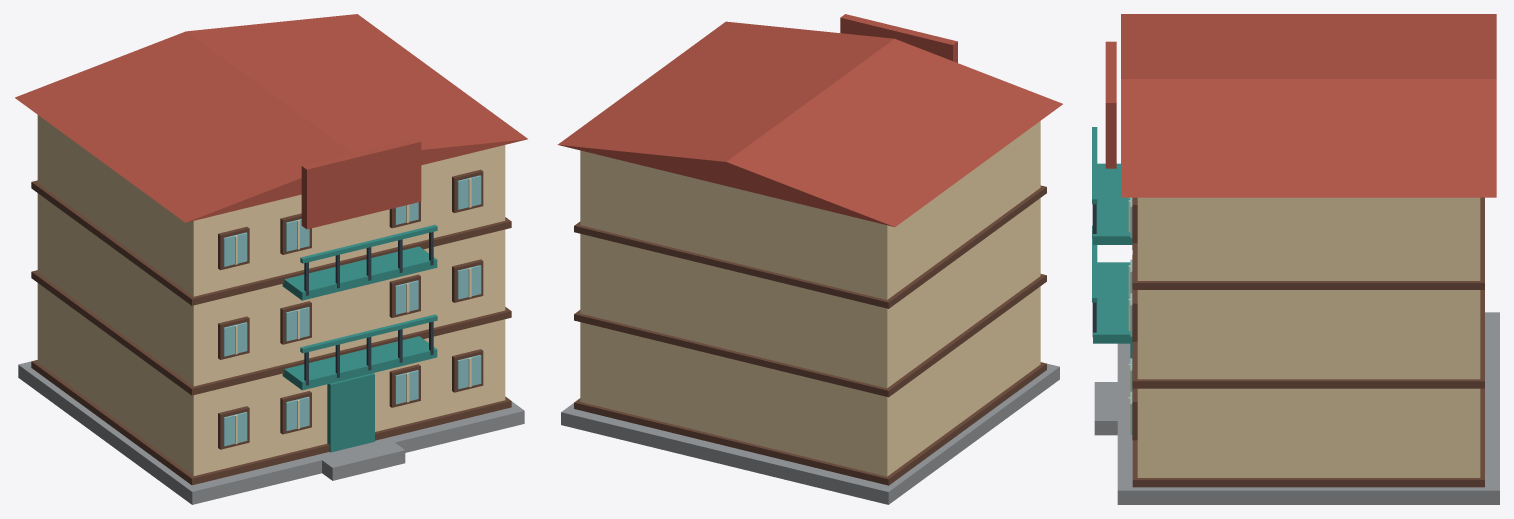
Rendered from apartment_small.glb.
The picture shows the model from 3 angles, left to right: view 1: azimuth 30°, elevation 25°; view 2: azimuth 150°, elevation 25°; view 3: azimuth 270°, elevation 25°; orthographic projection. The views are drawn at different scales.
Visible parts, largest first — view 1: walls, gable_roof, foundation, signboard, cornice, cornice.001, cornice.002, balcony.001, balcony, door, step, rail.001 (+12 smaller); view 2: walls, gable_roof, foundation, cornice.002, cornice, cornice.001, signboard; view 3: walls, gable_roof, foundation, cornice, cornice.001, cornice.002, balcony, balcony.001, step, signboard, rail.001.
Part boxes in pixels (x1,y1,x2,y2): walls: [37, 115, 505, 476]; gable_roof: [15, 14, 527, 222]; foundation: [18, 361, 524, 504]; signboard: [301, 138, 421, 229]; cornice: [31, 360, 511, 485]; cornice.001: [31, 270, 511, 395]; cornice.002: [31, 180, 511, 305]; balcony.001: [282, 246, 437, 300]; balcony: [282, 336, 437, 390]; door: [327, 373, 374, 452]; step: [316, 437, 405, 480]; rail.001: [300, 224, 437, 263]; walls: [580, 121, 1040, 476]; gable_roof: [557, 21, 1062, 226]; foundation: [561, 363, 1059, 504]; cornice.002: [574, 185, 1046, 308]; cornice: [574, 362, 1046, 485]; cornice.001: [574, 274, 1046, 397]; signboard: [840, 14, 957, 62]; walls: [1137, 197, 1480, 477]; gable_roof: [1121, 14, 1496, 197]; foundation: [1117, 312, 1499, 504]; cornice: [1132, 388, 1484, 487]; cornice.001: [1132, 290, 1484, 388]; cornice.002: [1132, 197, 1484, 289]; balcony: [1093, 262, 1132, 343]; balcony.001: [1093, 163, 1132, 244]; step: [1094, 382, 1130, 435]; signboard: [1105, 41, 1116, 168]; rail.001: [1092, 127, 1097, 204].
Bounding box in the file's own units: 6.6 × 5.75 × 6.19.
